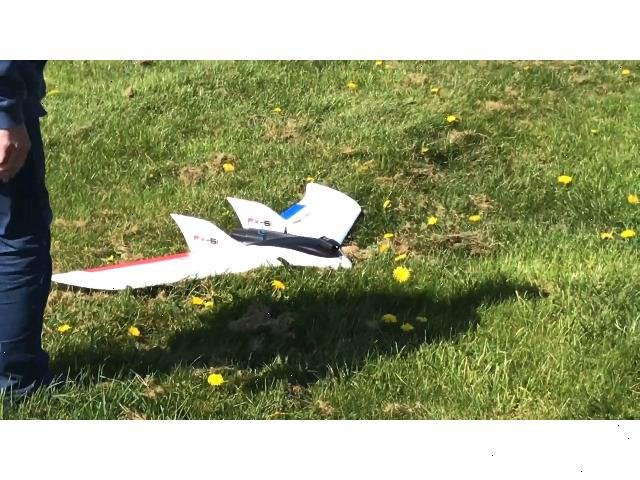Anti-Drone: (52, 170, 378, 300)
